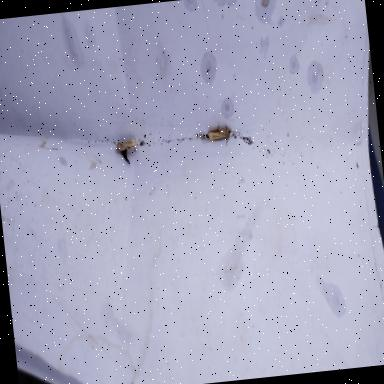abw: (208, 119, 242, 148), (115, 138, 138, 155)
